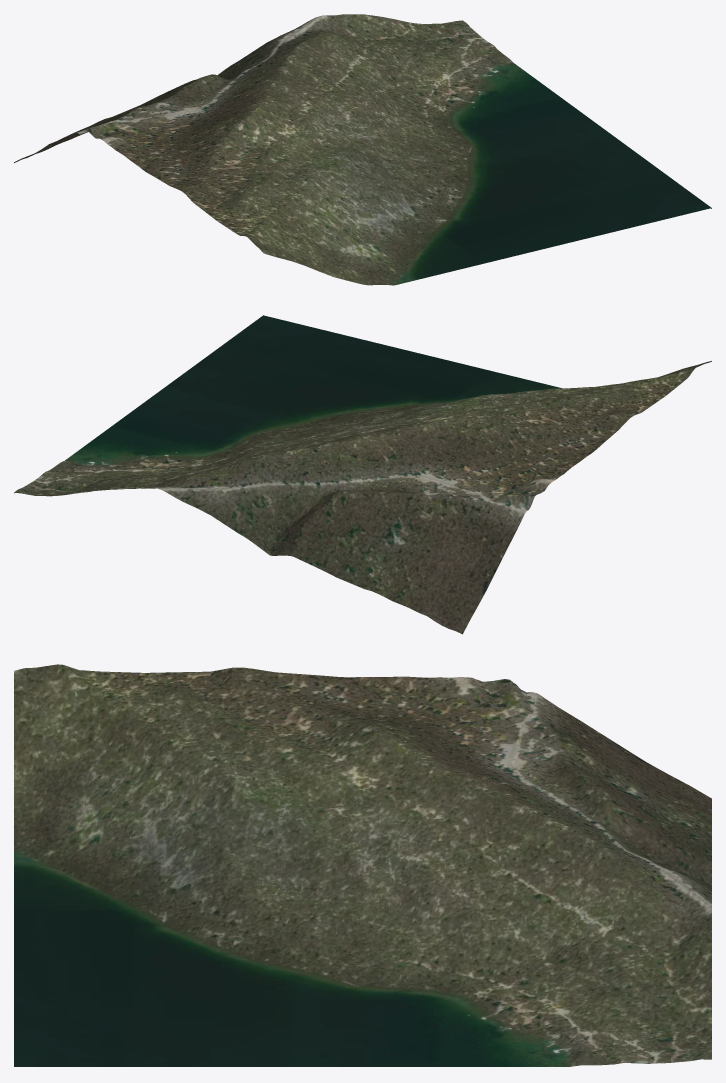
3 renders of one model, top to bottom at view 1: azimuth 30°, elevation 25°; view 2: azimuth 150°, elevation 25°; view 3: azimuth 270°, elevation 25°, orthographic. The views are drawn at different scales.
Size of the model in its own units: 1000 by 222 by 963.
1 material, 1 textured.
